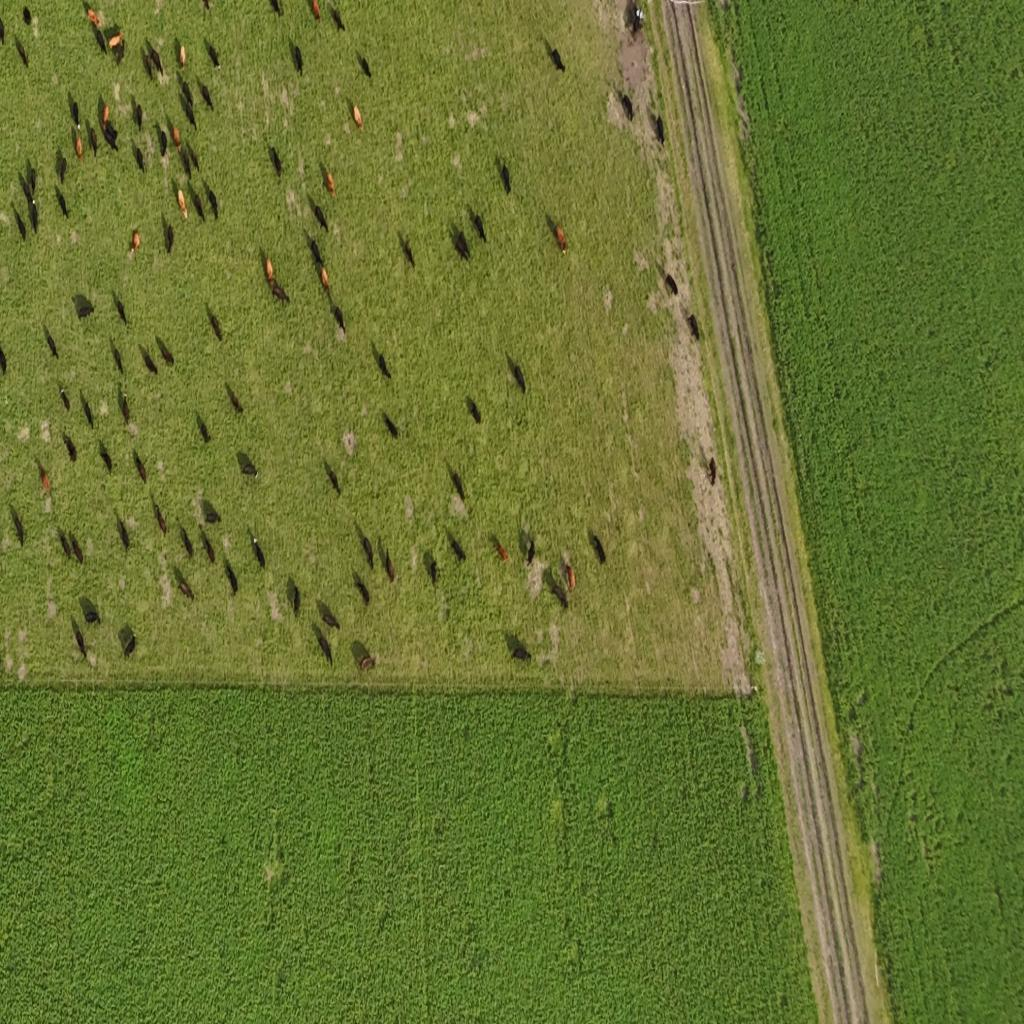cow: (304, 230, 324, 272), (507, 353, 526, 394), (206, 301, 224, 341), (72, 293, 96, 321), (80, 597, 101, 629), (623, 0, 642, 35), (236, 451, 258, 480), (314, 629, 332, 664), (11, 503, 25, 548), (374, 345, 392, 380), (269, 277, 291, 305), (452, 228, 470, 262), (102, 118, 120, 152), (118, 625, 136, 659), (200, 528, 216, 566), (311, 198, 328, 233), (226, 383, 244, 415), (200, 498, 222, 524), (156, 336, 175, 366), (72, 619, 86, 659), (183, 85, 196, 128), (354, 573, 370, 607), (140, 345, 157, 377), (450, 468, 466, 502), (251, 534, 266, 570), (320, 604, 340, 631), (189, 184, 204, 220), (116, 513, 130, 551), (19, 172, 33, 210), (590, 532, 606, 565), (179, 524, 194, 559), (550, 581, 568, 610), (205, 180, 218, 220), (325, 462, 340, 496), (448, 534, 466, 562), (400, 233, 414, 269), (12, 206, 26, 242), (113, 290, 127, 326), (134, 449, 148, 484), (154, 500, 168, 535), (36, 458, 50, 493), (225, 559, 238, 596), (58, 530, 73, 562), (269, 144, 283, 178), (44, 324, 58, 358), (196, 414, 211, 444), (357, 50, 372, 80), (383, 412, 399, 440), (70, 533, 84, 565), (82, 393, 94, 430), (491, 536, 508, 562), (151, 44, 164, 78), (62, 432, 76, 463), (472, 211, 486, 242), (206, 39, 220, 70), (92, 25, 106, 56), (384, 548, 396, 584), (56, 184, 68, 220), (55, 150, 67, 186), (291, 40, 303, 76), (187, 138, 199, 174), (99, 441, 112, 474), (510, 642, 531, 662), (466, 396, 481, 424), (362, 534, 374, 569), (112, 339, 124, 374), (200, 81, 214, 111), (26, 162, 38, 197), (143, 47, 155, 82), (15, 37, 28, 69), (333, 302, 345, 336), (120, 390, 131, 426), (550, 48, 565, 74), (687, 312, 700, 342), (330, 6, 345, 32), (426, 554, 438, 586), (290, 579, 300, 617), (164, 216, 174, 254), (500, 160, 511, 194), (178, 578, 194, 601), (177, 188, 188, 221), (622, 93, 634, 123), (564, 563, 576, 593), (664, 272, 678, 297), (112, 38, 124, 67), (654, 114, 664, 148), (556, 226, 568, 254), (359, 653, 377, 671), (134, 142, 144, 174), (89, 125, 98, 158), (159, 127, 168, 159), (525, 538, 535, 566), (134, 100, 143, 131), (30, 199, 38, 233), (0, 340, 8, 374), (352, 104, 362, 131), (108, 32, 123, 50), (320, 266, 330, 292), (87, 8, 100, 28), (326, 170, 335, 198), (265, 257, 274, 284), (130, 230, 140, 254), (60, 388, 70, 412), (708, 457, 716, 487), (72, 99, 80, 128), (75, 136, 83, 164), (269, 0, 282, 17), (311, 0, 320, 23), (172, 125, 180, 150), (22, 6, 32, 26), (102, 104, 110, 128), (179, 43, 186, 67), (202, 0, 212, 14)
